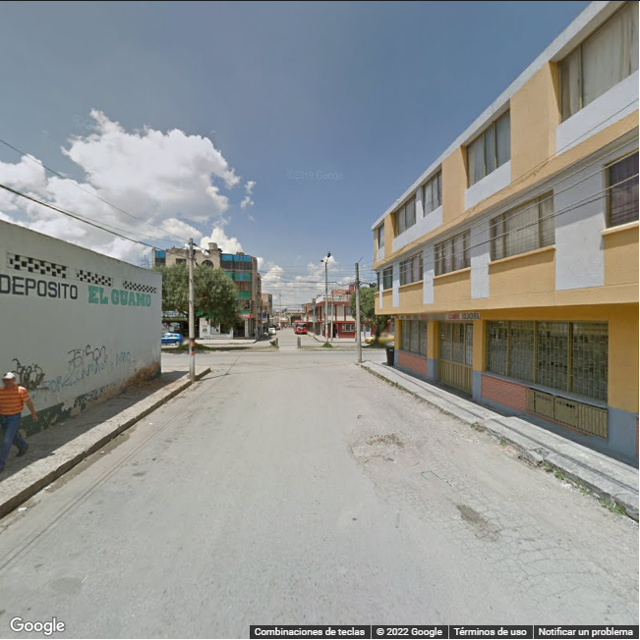D20: (468, 527, 600, 583), (377, 481, 430, 517)
D40: (352, 436, 401, 461)
